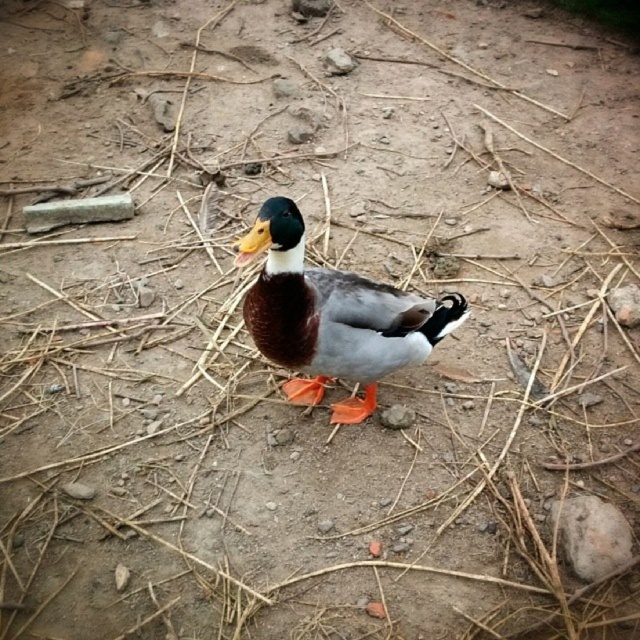Duck: (222, 201, 468, 428)
